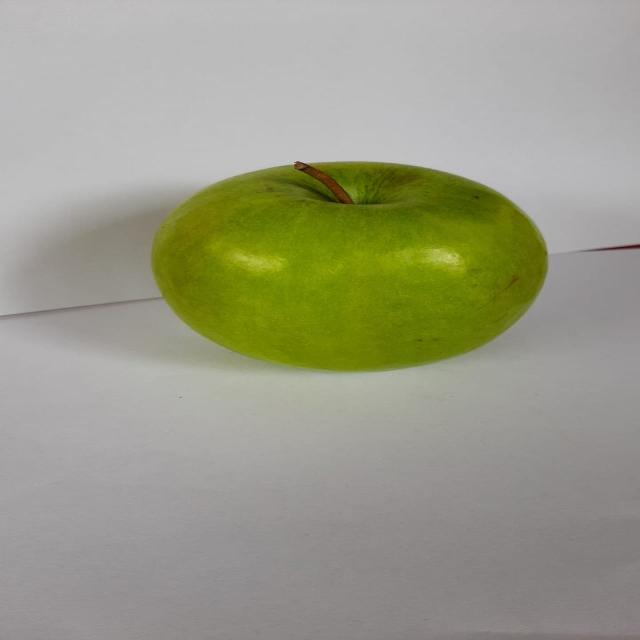50-_ripeness: (138, 146, 562, 382)
